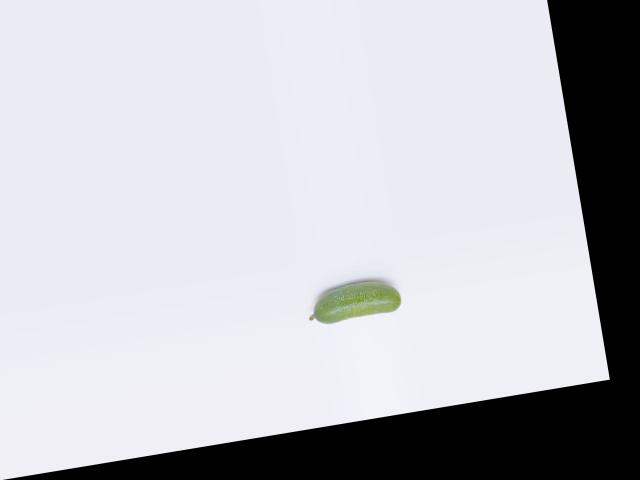cucumber: (305, 275, 403, 326)
